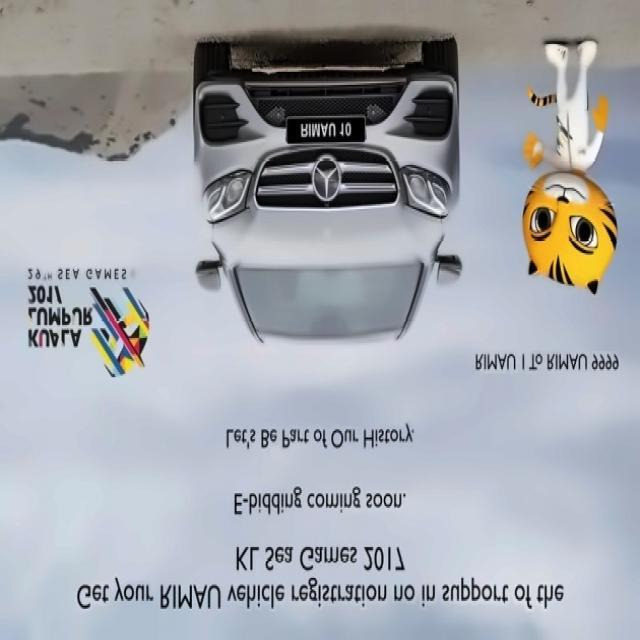car-plate: (284, 116, 369, 148)
